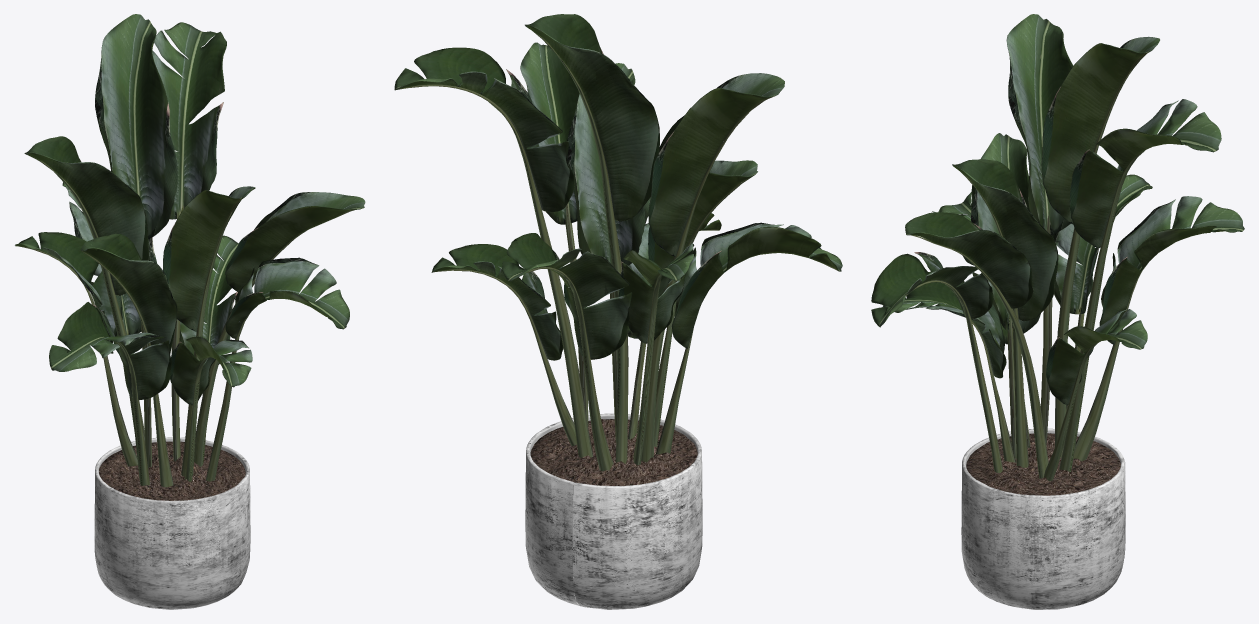
File: plant.glb
The picture shows the model from 3 angles, left to right: view 1: azimuth 30°, elevation 25°; view 2: azimuth 150°, elevation 25°; view 3: azimuth 270°, elevation 25°; orthographic projection. The views are drawn at different scales.
Parts seen in each view (by area): view 1: Object_9, Object_8, Object_5, Object_10, Object_6; view 2: Object_8, Object_9, Object_5, Object_10, Object_6; view 3: Object_9, Object_8, Object_5, Object_10, Object_6.
Boxes of the visible parts, x1=… form: Object_9: x1=15, y1=14, x2=365, y2=404; Object_8: x1=15, y1=40, x2=356, y2=405; Object_5: x1=94, y1=437, x2=250, y2=609; Object_10: x1=19, y1=66, x2=354, y2=487; Object_6: x1=99, y1=441, x2=245, y2=500; Object_8: x1=397, y1=25, x2=837, y2=360; Object_9: x1=394, y1=14, x2=842, y2=359; Object_5: x1=525, y1=413, x2=702, y2=609; Object_10: x1=398, y1=31, x2=837, y2=471; Object_6: x1=530, y1=419, x2=697, y2=486; Object_9: x1=871, y1=14, x2=1244, y2=403; Object_8: x1=906, y1=43, x2=1226, y2=404; Object_5: x1=961, y1=428, x2=1125, y2=609; Object_10: x1=905, y1=53, x2=1149, y2=481; Object_6: x1=966, y1=433, x2=1120, y2=495.
Bounding box in the file's own units: 1.08 × 1.88 × 1.14.
Materials: 5 (5 with a texture image).
